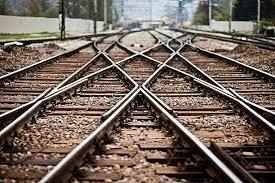track: (0, 31, 201, 183), (94, 33, 275, 183), (146, 29, 275, 133), (0, 32, 128, 136)
